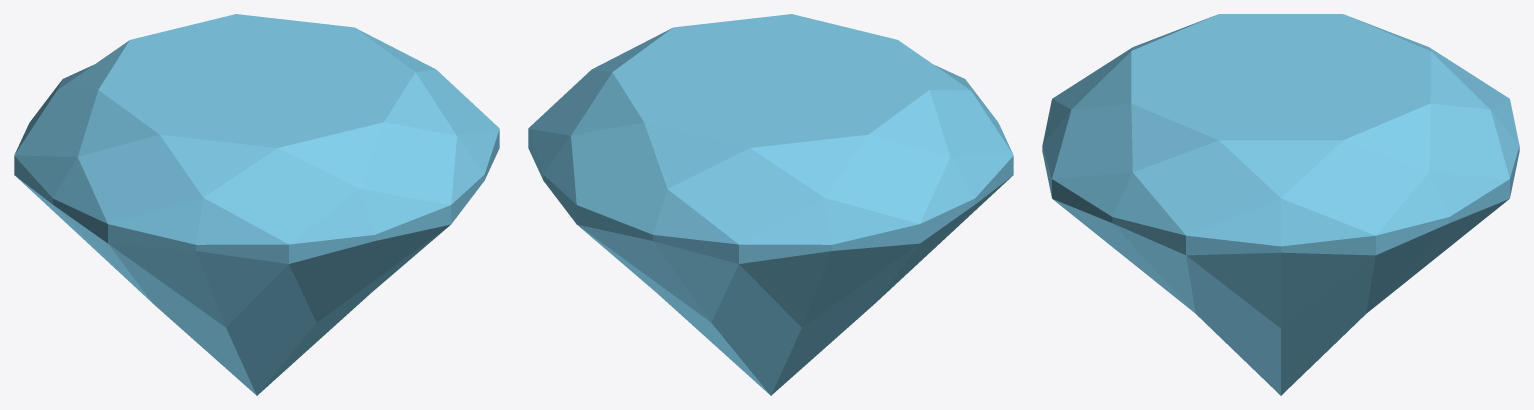
The model's file is diamante.fbx.
3 renders of one model, left to right at view 1: azimuth 30°, elevation 25°; view 2: azimuth 150°, elevation 25°; view 3: azimuth 270°, elevation 25°, orthographic.
Visible parts, largest first — view 1: Cylinder; view 2: Cylinder; view 3: Cylinder.
Boxes of the visible parts, <box> form: Cylinder: <box>14,14,499,395</box>; Cylinder: <box>528,14,1013,395</box>; Cylinder: <box>1042,14,1519,395</box>.
Size of the model in its own units: 200 by 147 by 200.
